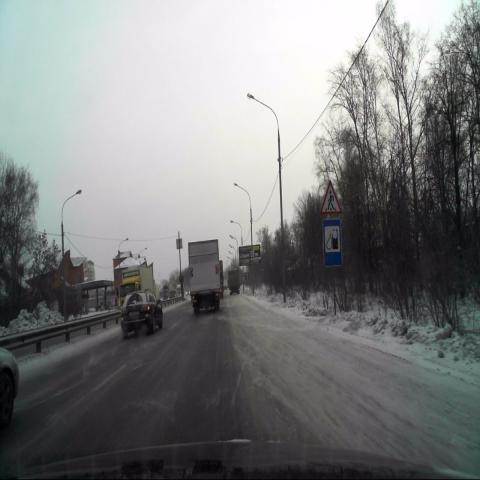7_3: (322, 219, 342, 266)
